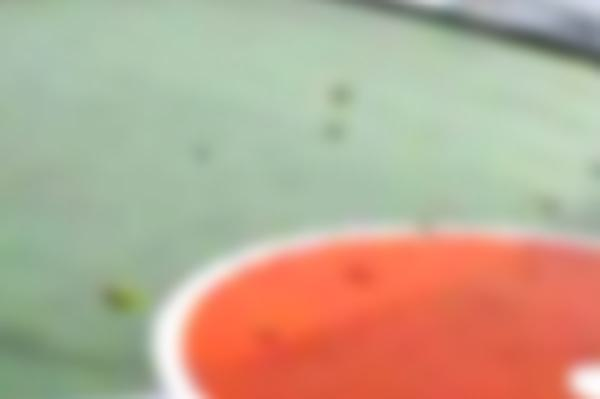Apron: (148, 219, 600, 395)
